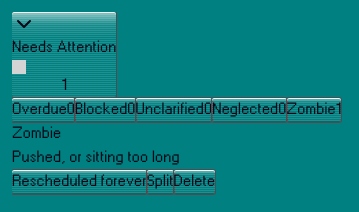
Test: NeedsAttention › kills a queued item after confirm
This screenshot has width=359, height=212.
Click the button "Delete": (194, 182) [174,170,215,194]
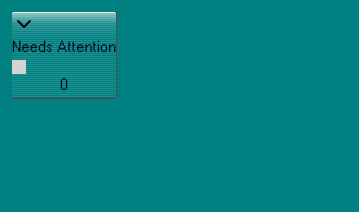
Check: the button "Rescheduled forever" is gone
